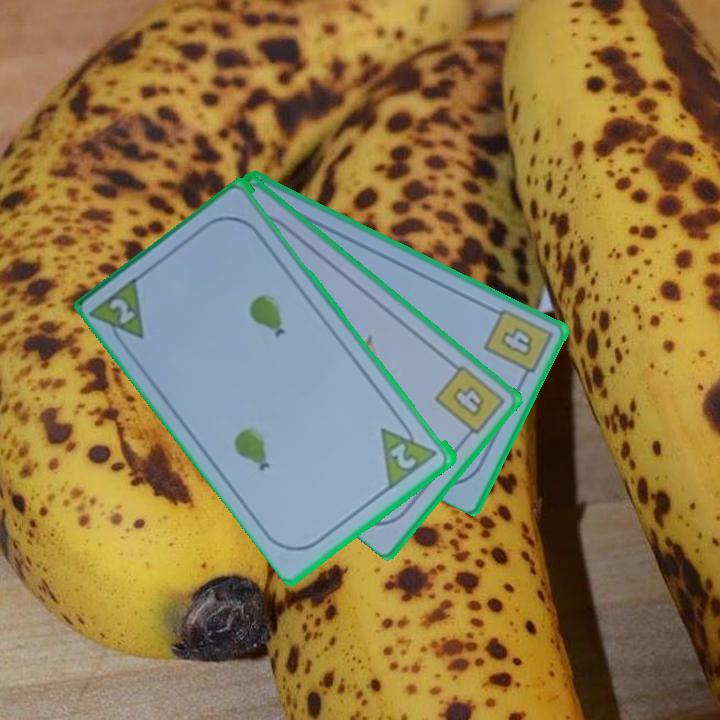2p: (88, 272, 148, 355), (387, 439, 420, 473)
4b: (431, 361, 508, 444), (480, 305, 556, 384)
